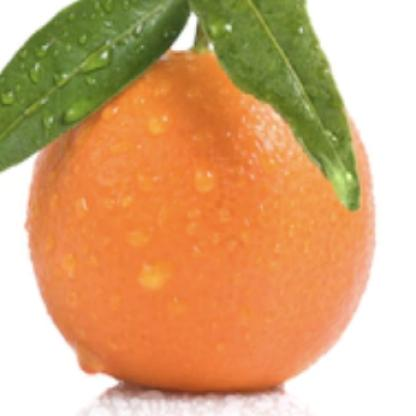fresh: (32, 41, 374, 393)
